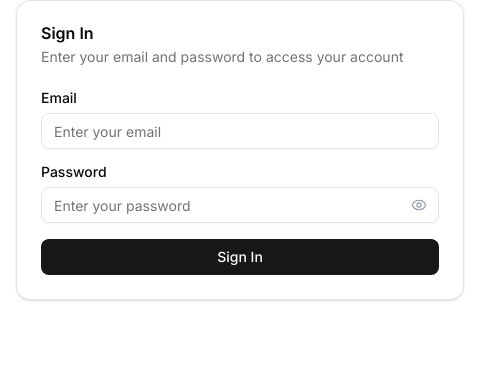
Test: LoginForm › should submit form with valid credentials
Type "test@example.com" into the field labelled "Email" at (240, 131), box [41,113,439,149]
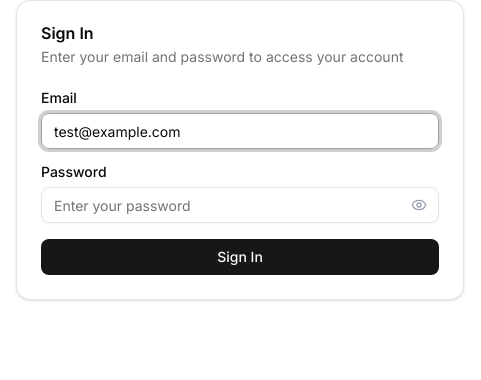
Type "password123" into the password field labelled "Password" at (240, 205), box [41,187,439,223]
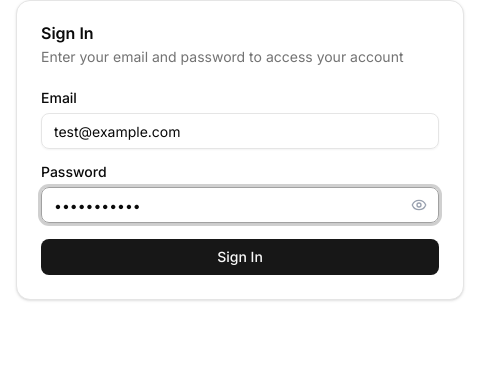
Click the button "Sign In" at (240, 257), box [41,239,439,275]
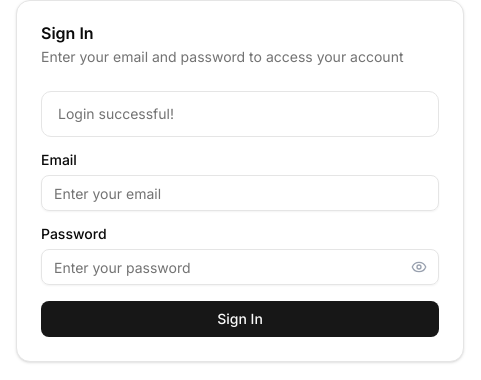
Expected: the text "Login successful!" is shown, [58,105,174,122]
